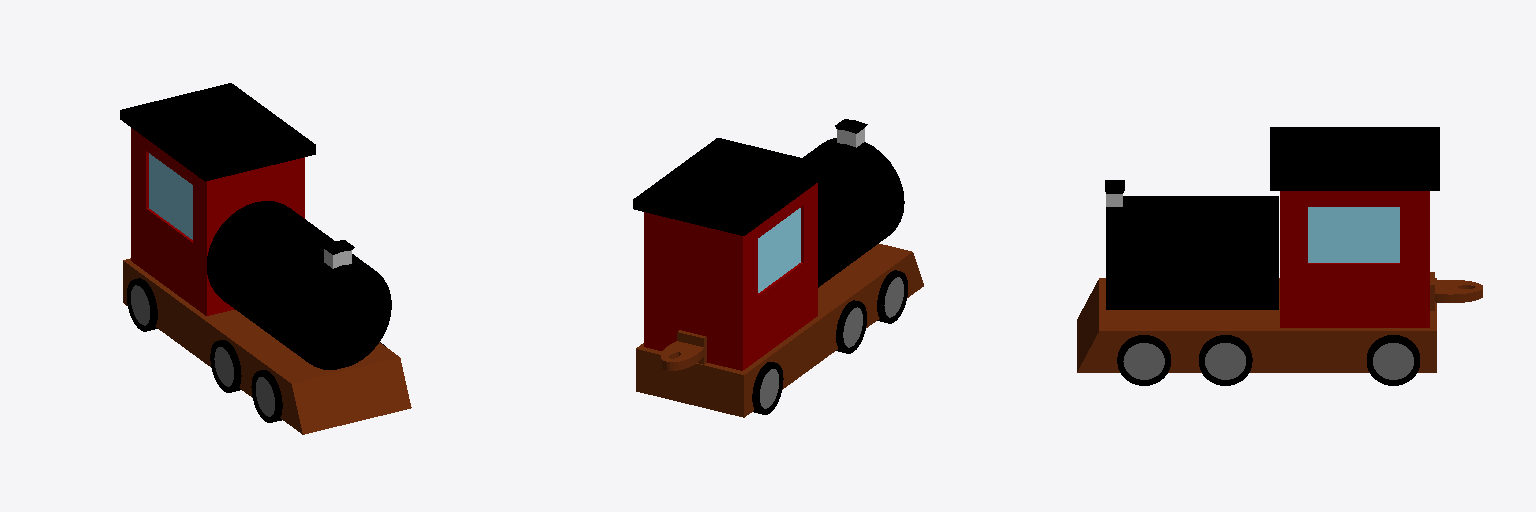
The model's file is trainfront.obj.
The picture shows the model from 3 angles: view 1: azimuth 30°, elevation 25°; view 2: azimuth 150°, elevation 25°; view 3: azimuth 270°, elevation 25°; orthographic projection.
Parts seen in each view (by area): view 1: Cube.027_Cube.054, Cylinder.008_Cylinder.012, Cube.026_Cube.053, Cylinder.014_Cylinder.018, Cylinder.013_Cylinder.017, Cylinder.012_Cylinder.016; view 2: Cube.027_Cube.054, Cube.026_Cube.053, Cylinder.008_Cylinder.012, Cylinder.012_Cylinder.016, Cylinder.013_Cylinder.017, Cylinder.014_Cylinder.018, Cylinder.016_Cylinder.021; view 3: Cube.027_Cube.054, Cylinder.008_Cylinder.012, Cube.026_Cube.053, Cylinder.009_Cylinder.013, Cylinder.011_Cylinder.015, Cylinder.010_Cylinder.014, Cylinder.016_Cylinder.021.
Boxes of the visible parts, <box> form: Cube.027_Cube.054: <box>120,83,315,315</box>; Cylinder.008_Cylinder.012: <box>207,201,391,369</box>; Cube.026_Cube.053: <box>123,258,411,434</box>; Cylinder.014_Cylinder.018: <box>127,278,157,331</box>; Cylinder.013_Cylinder.017: <box>210,340,241,392</box>; Cylinder.012_Cylinder.016: <box>251,370,282,422</box>; Cube.027_Cube.054: <box>633,138,828,370</box>; Cube.026_Cube.053: <box>636,244,923,417</box>; Cylinder.008_Cylinder.012: <box>803,119,904,287</box>; Cylinder.012_Cylinder.016: <box>877,270,907,323</box>; Cylinder.013_Cylinder.017: <box>836,300,866,353</box>; Cylinder.014_Cylinder.018: <box>752,362,783,414</box>; Cylinder.016_Cylinder.021: <box>661,341,703,370</box>; Cube.027_Cube.054: <box>1270,127,1439,327</box>; Cylinder.008_Cylinder.012: <box>1105,180,1278,309</box>; Cube.026_Cube.053: <box>1077,278,1436,372</box>; Cylinder.009_Cylinder.013: <box>1117,335,1170,385</box>; Cylinder.011_Cylinder.015: <box>1367,335,1419,385</box>; Cylinder.010_Cylinder.014: <box>1199,335,1252,385</box>; Cylinder.016_Cylinder.021: <box>1435,280,1482,302</box>.
Bounding box in the file's own units: 0.1296 × 0.2126 × 0.3869.